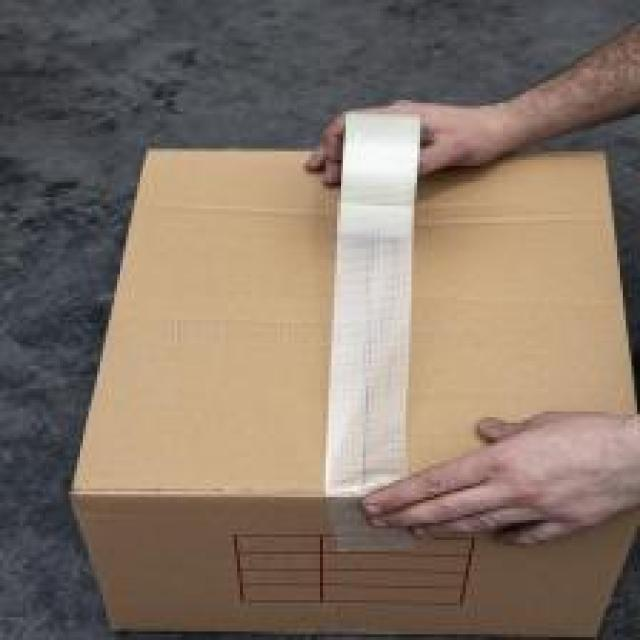box: (245, 200, 570, 631), (1, 368, 143, 639), (320, 78, 511, 250)
